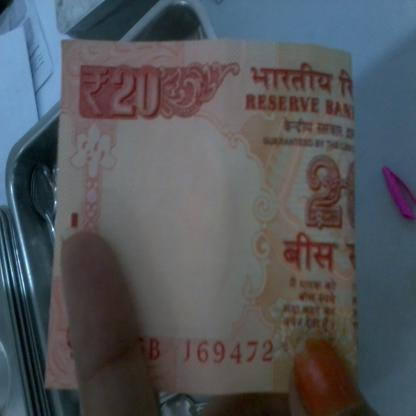Old20Front: (56, 41, 358, 394)
